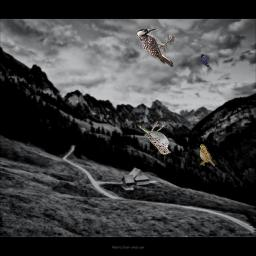Crow: (200, 54, 210, 68)
Sparrow: (137, 120, 171, 155), (200, 144, 215, 166)
Woodpecker: (136, 28, 176, 67)
